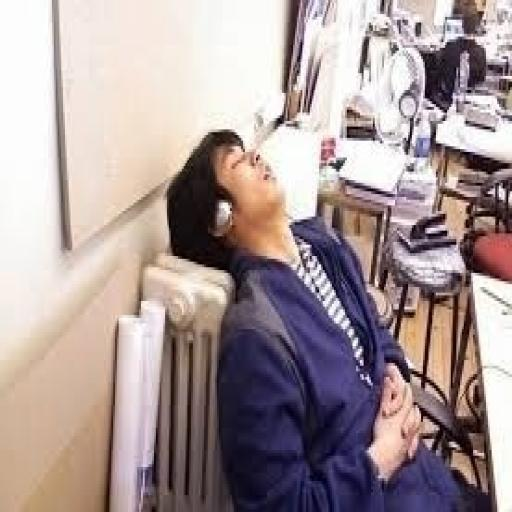sleeping: (163, 124, 492, 509)
